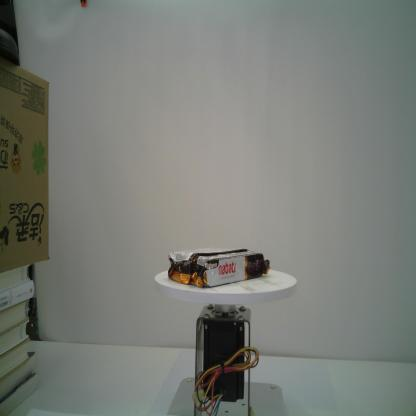Dessert: (167, 246, 272, 290)
